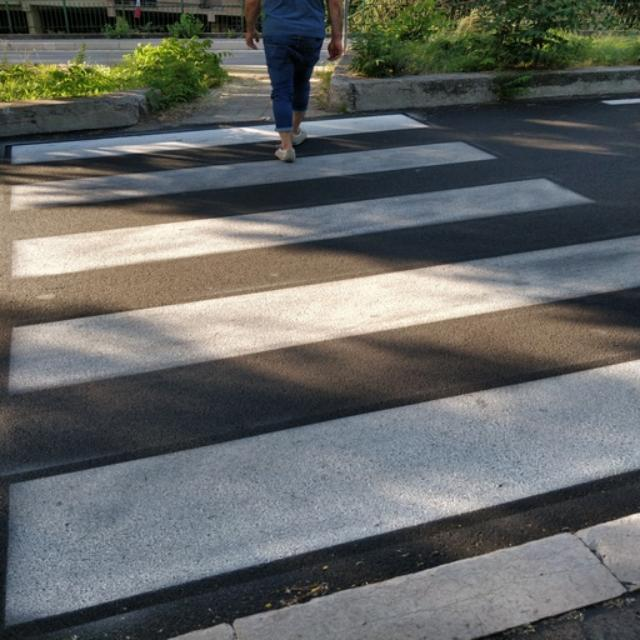sidewalk: (2, 115, 633, 630)
